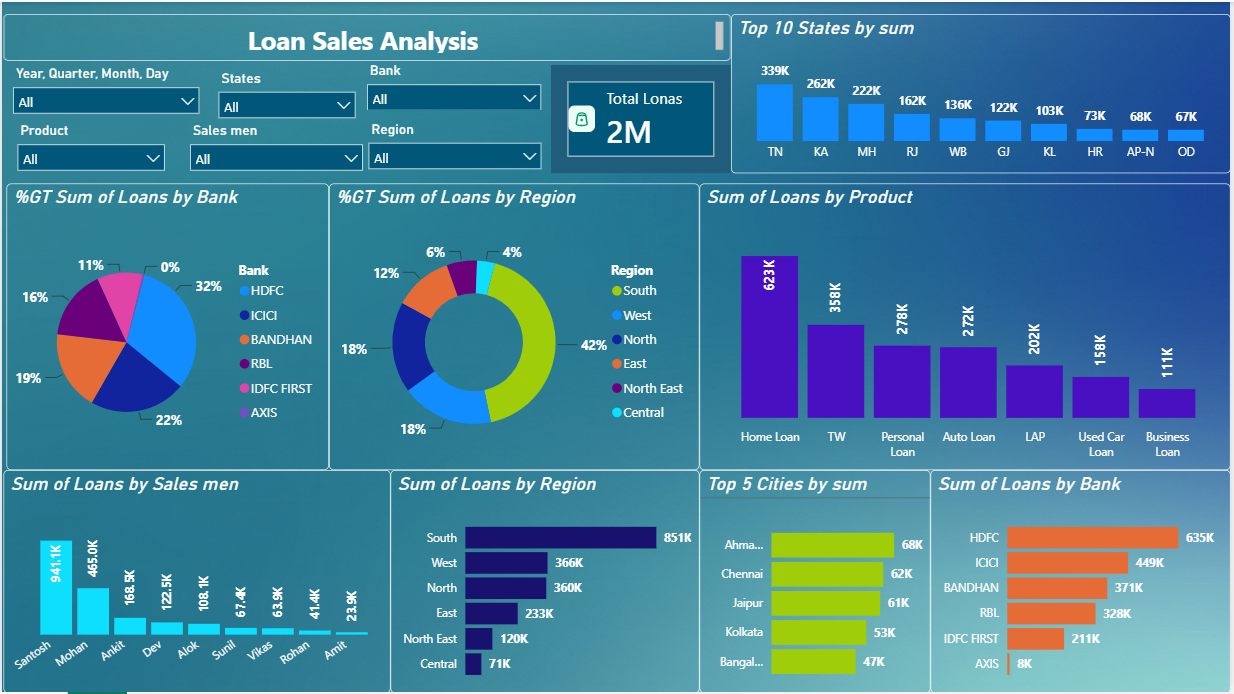

Layout of this report page (visuals, bound fields, positions):
{"tool":"powerbi","page":{"name":" Page 1","canvas":[1280,720],"ordinal":0},"visuals":[{"type":"columnChart","fields":{"Category":["new Data.Sales men"],"Y":["Sum(new Data.Loans)"]},"box":[1.6,487.7,403.3,232.9],"z":0},{"type":"barChart","fields":{"Category":["new Data.Bank"],"Y":["Sum(new Data.Loans)"]},"box":[967.5,487.7,312.6,232.9],"z":1000},{"type":"clusteredBarChart","title":"Top 5 Cities by sum","fields":{"Category":["new Data.Ship to City"],"Y":["Sum(new Data.Loans)"]},"box":[726.8,487.7,240.7,232.9],"z":2000},{"type":"barChart","fields":{"Category":["new Data.Region"],"Y":["Sum(new Data.Loans)"]},"box":[404.8,487.7,322,232.9],"z":3000},{"type":"cardVisual","fields":{"Data":["new Data.Total Lonas"]},"box":[572.1,65.6,187.6,112.5],"z":4000,"group":"g1"},{"type":"columnChart","fields":{"Category":["new Data.Product"],"Y":["Sum(new Data.Loans)"]},"box":[726.8,189.1,553.3,298.5],"z":5000},{"type":"slicer","fields":{"Values":["new Data.Date.Variation.Date Hierarchy.Year","new Data.Date.Variation.Date Hierarchy.Quarter","new Data.Date.Variation.Date Hierarchy.Month","new Data.Date.Variation.Date Hierarchy.Day"]},"box":[1.6,60.9,214.1,64.1],"z":6000,"group":"g1"},{"type":"donutChart","fields":{"Category":["new Data.Region"],"Y":["Divide(Sum(new Data.Loans), ScopedEval(Sum(new Data.Loans), []))"]},"box":[340.7,189.1,386.1,298.5],"z":7000},{"type":"slicer","fields":{"Values":["new Data.States"]},"box":[215.7,65.6,162.6,59.4],"z":8000,"group":"g1"},{"type":"pieChart","fields":{"Category":["new Data.Bank"],"Y":["Sum(new Data.Loans)"]},"box":[4.7,189.1,336,298.5],"z":9000},{"type":"slicer","fields":{"Values":["new Data.Sales men"]},"box":[186,120.3,200.1,57.8],"z":10000,"group":"g1"},{"type":"columnChart","title":"Top 10 States by sum","fields":{"Category":["new Data.States"],"Y":["Sum(new Data.Loans)"]},"box":[759.6,12.5,520.5,165.7],"z":11000},{"type":"slicer","fields":{"Values":["new Data.Region"]},"box":[372,118.8,200.1,57.8],"z":12000,"group":"g1"},{"type":"textbox","box":[1.6,12.5,758,48.5],"z":13000},{"type":"slicer","fields":{"Values":["new Data.Bank"]},"box":[370.5,57.8,201.6,54.7],"z":14000,"group":"g1"},{"type":"slicer","fields":{"Values":["new Data.Product"]},"box":[6.3,120.3,173.5,68.8],"z":15000,"group":"g1"},{"type":"group","id":"g1","title":"Group 1","box":[1.6,57.8,758,131.3],"z":15001}]}

Visuals, with their boxes in screenshot pixels (x1, y1, x2, y2), scaled from the page's 1280x720 canvas onto the 1234x694 screenshot:
columnChart - new Data.Sales men x Sum(new Data.Loans): [2, 470, 390, 693]
barChart - new Data.Bank x Sum(new Data.Loans): [933, 470, 1233, 693]
"Top 5 Cities by sum" clusteredBarChart: [701, 470, 933, 693]
barChart - new Data.Region x Sum(new Data.Loans): [390, 470, 701, 693]
cardVisual - new Data.Total Lonas: [552, 63, 732, 172]
columnChart - new Data.Product x Sum(new Data.Loans): [701, 182, 1233, 470]
slicer - new Data.Date.Variation.Date Hierarchy.Year x new Data.Date.Variation.Date Hierarchy.Quarter: [2, 59, 208, 120]
donutChart - new Data.Region x Divide(Sum(new Data.Loans), ScopedEval(Sum(new Data.Loans), [])): [328, 182, 701, 470]
slicer - new Data.States: [208, 63, 365, 120]
pieChart - new Data.Bank x Sum(new Data.Loans): [5, 182, 328, 470]
slicer - new Data.Sales men: [179, 116, 372, 172]
"Top 10 States by sum" columnChart: [732, 12, 1233, 172]
slicer - new Data.Region: [359, 115, 552, 170]
textbox: [2, 12, 732, 59]
slicer - new Data.Bank: [357, 56, 552, 108]
slicer - new Data.Product: [6, 116, 173, 182]
"Group 1" group: [2, 56, 732, 182]
